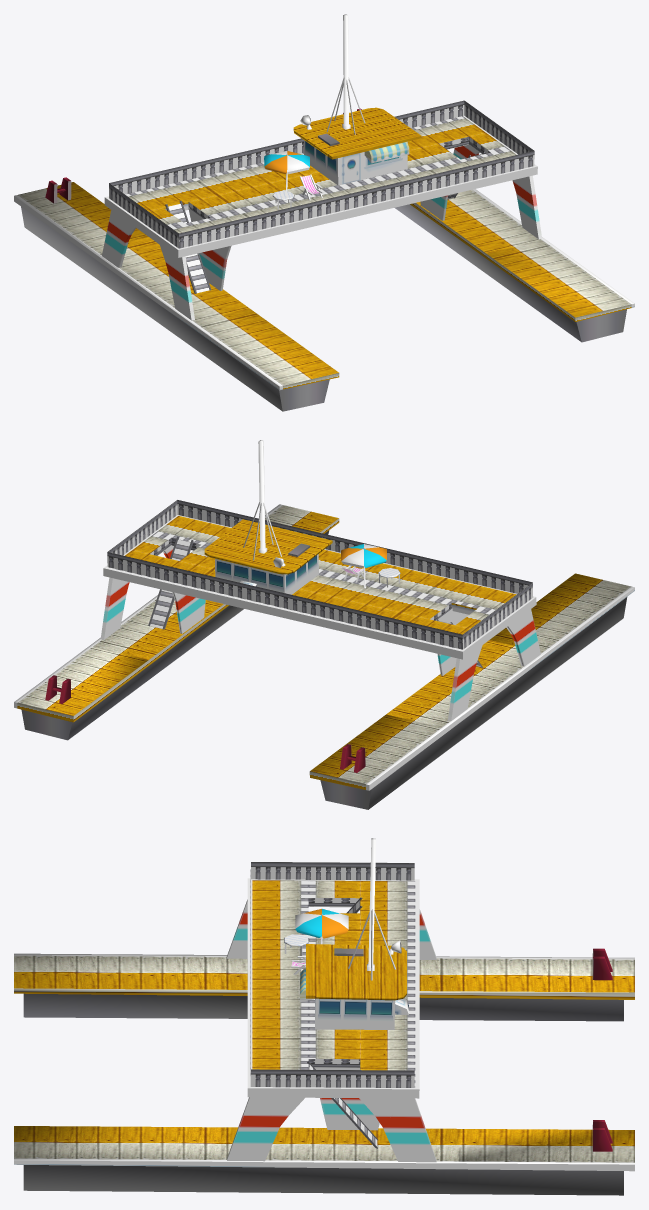
The model's file is Tugboat.obj.
The picture shows the model from 3 angles, top to bottom: view 1: azimuth 30°, elevation 25°; view 2: azimuth 150°, elevation 25°; view 3: azimuth 270°, elevation 25°; orthographic projection. The views are drawn at different scales.
Parts seen in each view (by area): view 1: tugboat_polygon0.706, tugboat_parasol_polygon2.002; view 2: tugboat_polygon0.706, tugboat_parasol_polygon2.002; view 3: tugboat_polygon0.706, tugboat_parasol_polygon2.002.
Part boxes in pixels (box(x1,y1,x2,y2)): tugboat_polygon0.706: box(14, 14, 634, 411); tugboat_parasol_polygon2.002: box(264, 151, 309, 191); tugboat_polygon0.706: box(14, 440, 634, 809); tugboat_parasol_polygon2.002: box(341, 544, 386, 588); tugboat_polygon0.706: box(14, 838, 634, 1195); tugboat_parasol_polygon2.002: box(295, 909, 348, 944).
Size of the model in its own units: 2.04 by 1.31 by 2.61.
4 materials, 4 textured.
